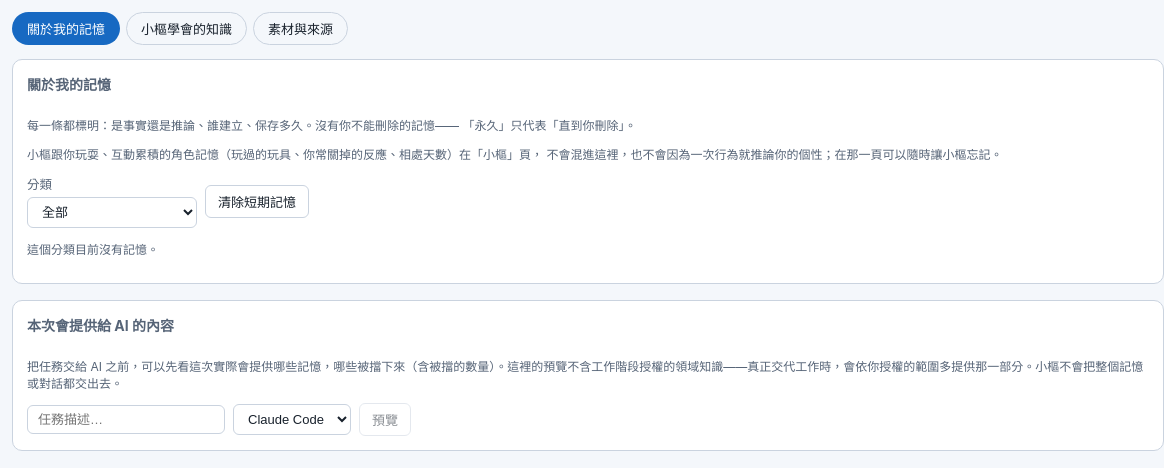
Test: memory-ui-003：貼上的文字素材，卡片標題不得是 sha256 前 12 碼 › originalName 未帶（純文字 inline 匯入的預設結果）：標題不是 hash 前綴
Click the tab "素材與來源" at (300, 28), box left=253, top=12, right=348, bottom=45
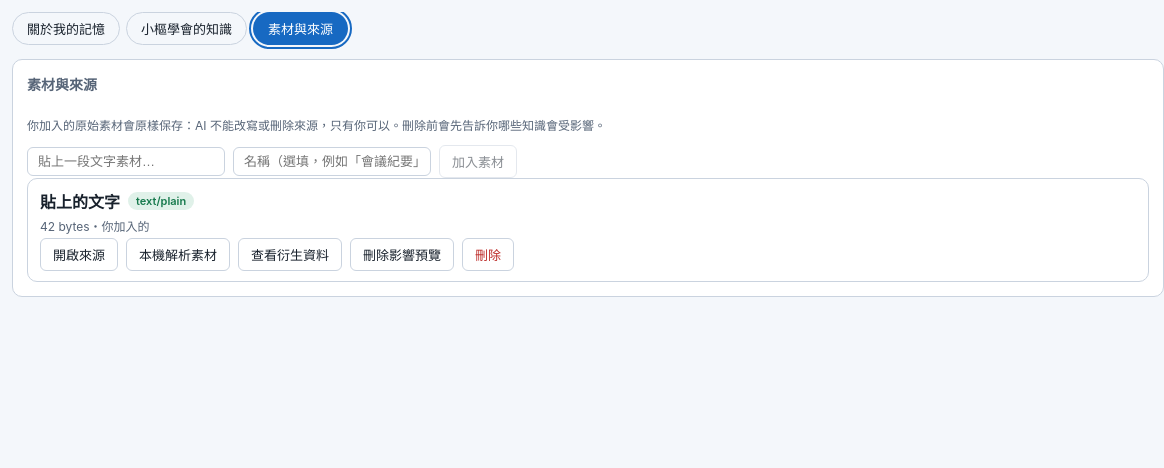
Now the text "貼上的文字" is shown, box left=40, top=189, right=120, bottom=213
